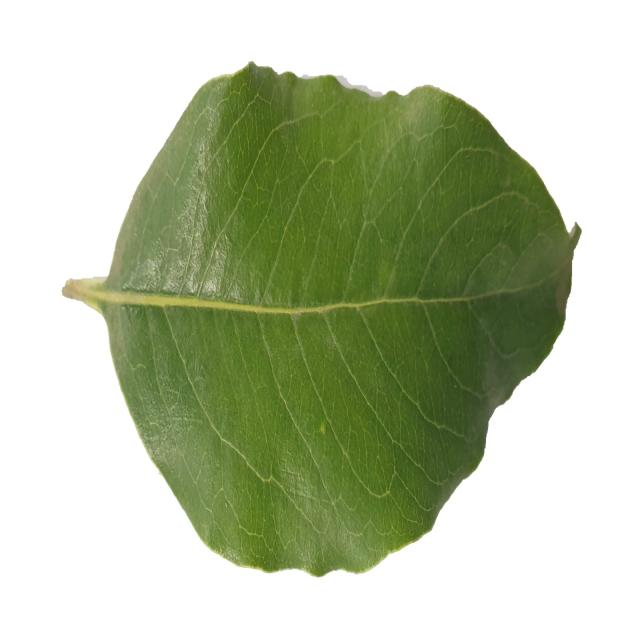Medicinal-Sandalwood: (62, 58, 584, 580)
